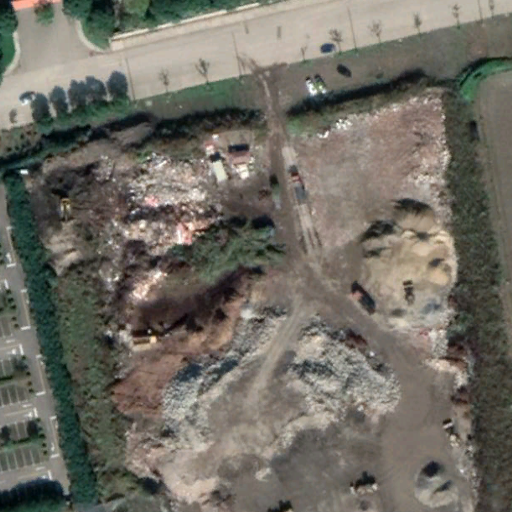msw: (106, 152, 217, 297)
